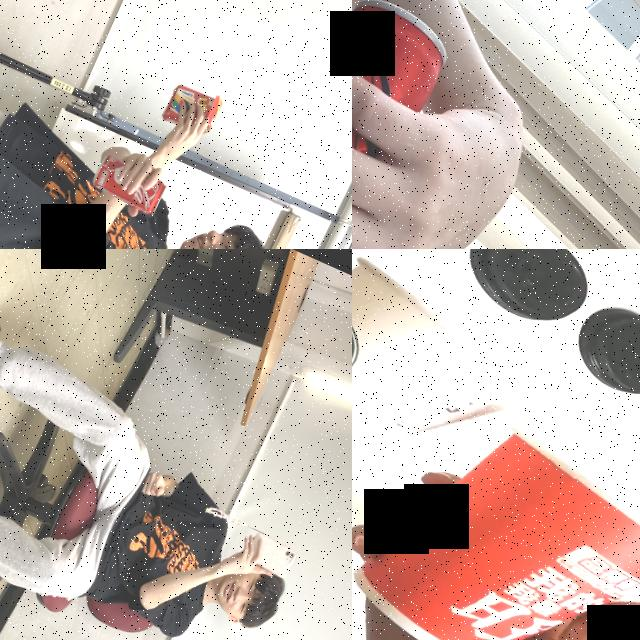can: (352, 0, 464, 249), (86, 150, 170, 218)
cup: (352, 389, 640, 640), (352, 249, 557, 564)
